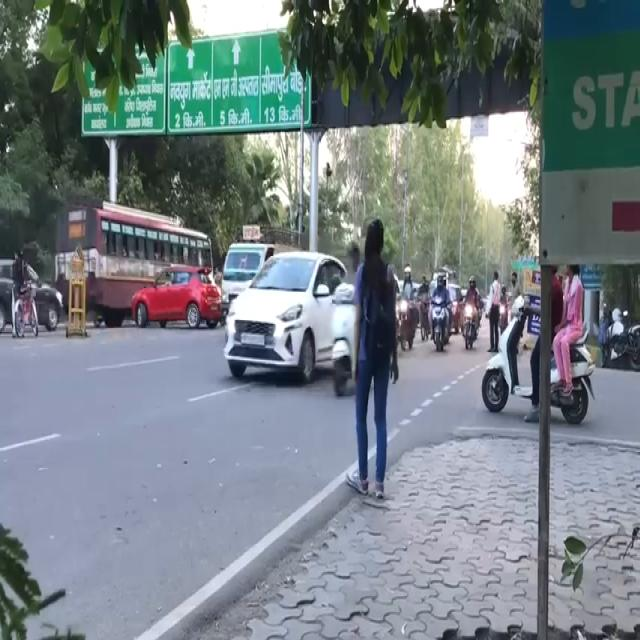BUS: (60, 205, 220, 335)
MOTORCYCLE: (488, 313, 592, 424), (4, 267, 63, 338), (427, 296, 452, 354), (486, 288, 508, 348), (463, 296, 482, 352)
SUV: (226, 250, 333, 387)
